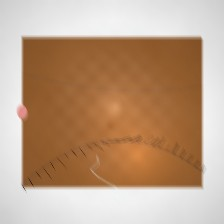foreign_body_visible: (159, 103, 183, 122)
